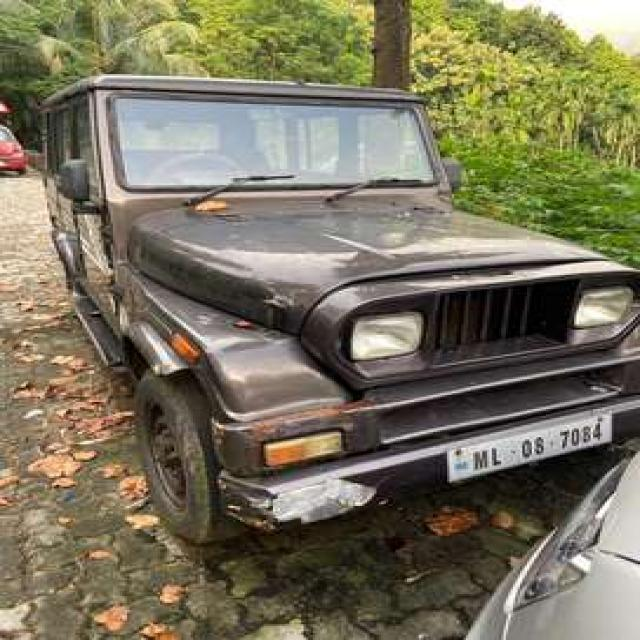plate: (446, 408, 618, 484)
